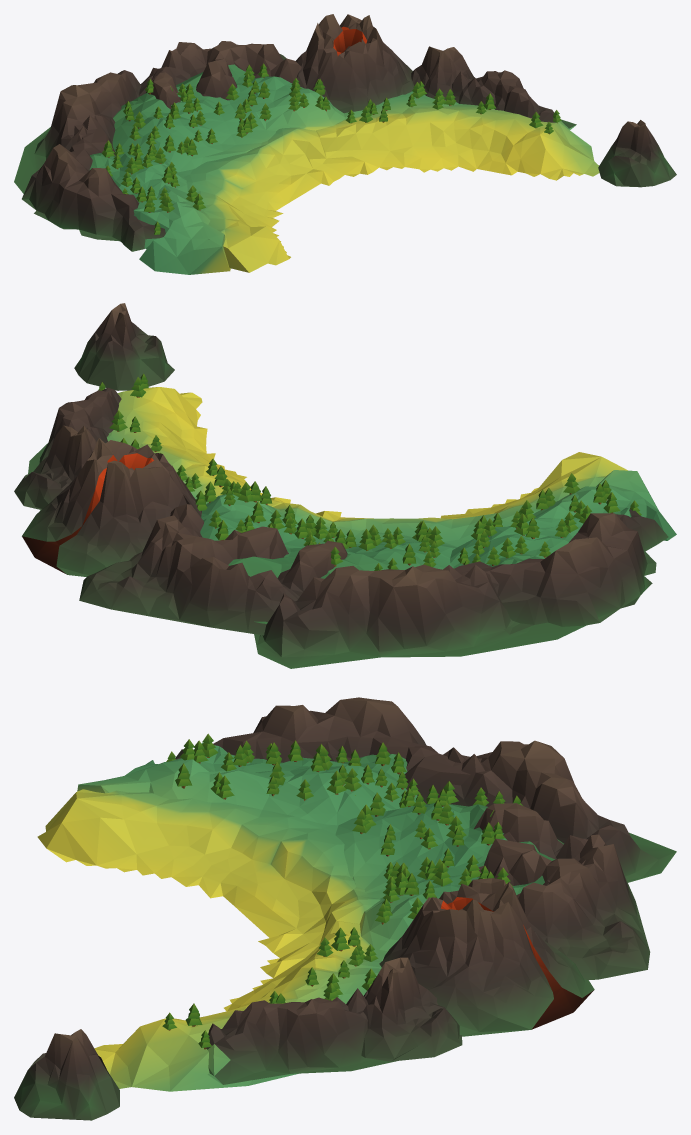
The model's file is Home_base.fbx.
3 views of the same model, one above another, from view 1: azimuth 30°, elevation 25°; view 2: azimuth 150°, elevation 25°; view 3: azimuth 270°, elevation 25° (orthographic). The views are drawn at different scales.
Parts seen in each view (by area): view 1: Home_Island; view 2: Home_Island; view 3: Home_Island.
Boxes of the visible parts, box(x1,y1,x2,y2) form: Home_Island: box(14, 14, 676, 274); Home_Island: box(14, 303, 676, 668); Home_Island: box(14, 697, 676, 1120).
Size of what is drawn, in the model's own units: 21211 by 3319 by 16150.
